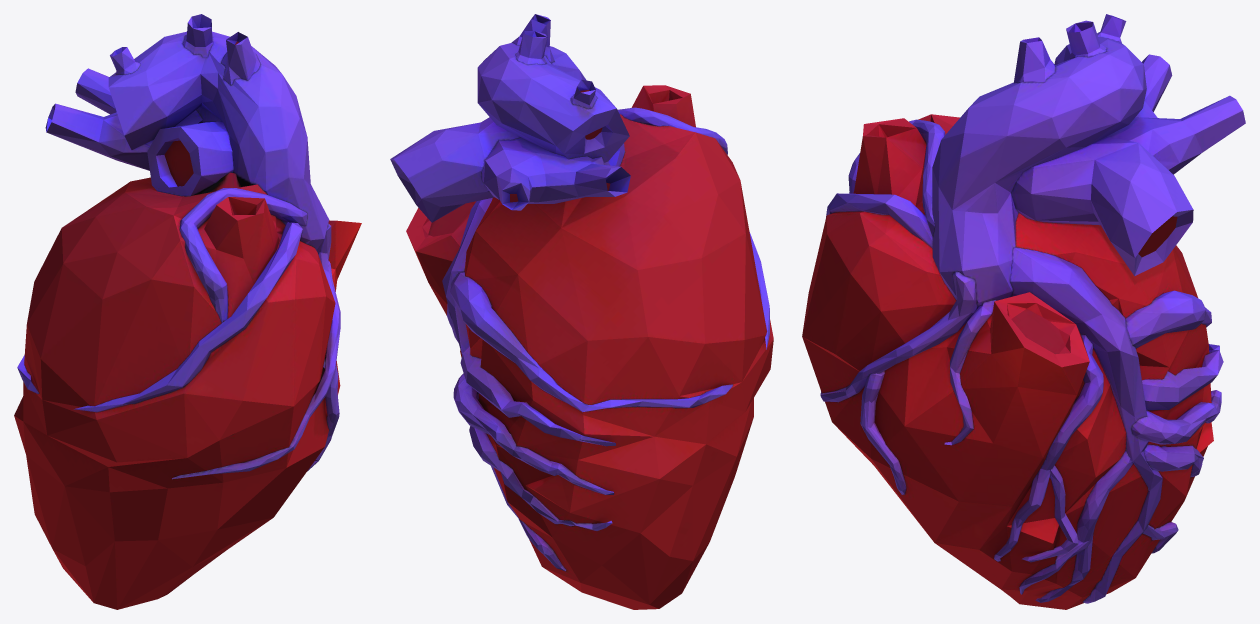
The model's file is heartNoBG.obj.
3 views of the same model, side by side, from view 1: azimuth 30°, elevation 25°; view 2: azimuth 150°, elevation 25°; view 3: azimuth 270°, elevation 25° (orthographic). The views are drawn at different scales.
Parts seen in each view (by area): view 1: Heart_Circle.000; view 2: Heart_Circle.000; view 3: Heart_Circle.000.
Boxes of the visible parts, bbox=[...] form: Heart_Circle.000: bbox=[14, 14, 361, 609]; Heart_Circle.000: bbox=[390, 14, 773, 609]; Heart_Circle.000: bbox=[802, 14, 1245, 609].
Bounding box in the file's own units: 7.74 × 12.65 × 8.18.
1 material, 1 textured.
